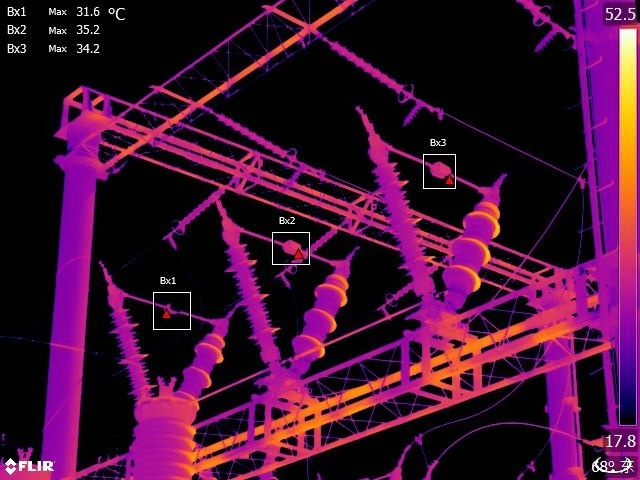insulator: (323, 37, 417, 104), (211, 115, 295, 159), (282, 228, 340, 277), (170, 186, 223, 232), (371, 277, 411, 317), (505, 1, 559, 25)
post insulator: (371, 153, 445, 311), (435, 198, 505, 306), (225, 237, 282, 364), (288, 265, 354, 366), (109, 298, 151, 401), (171, 331, 229, 399)
switch: (367, 131, 507, 200), (223, 211, 352, 271), (101, 279, 221, 335)
